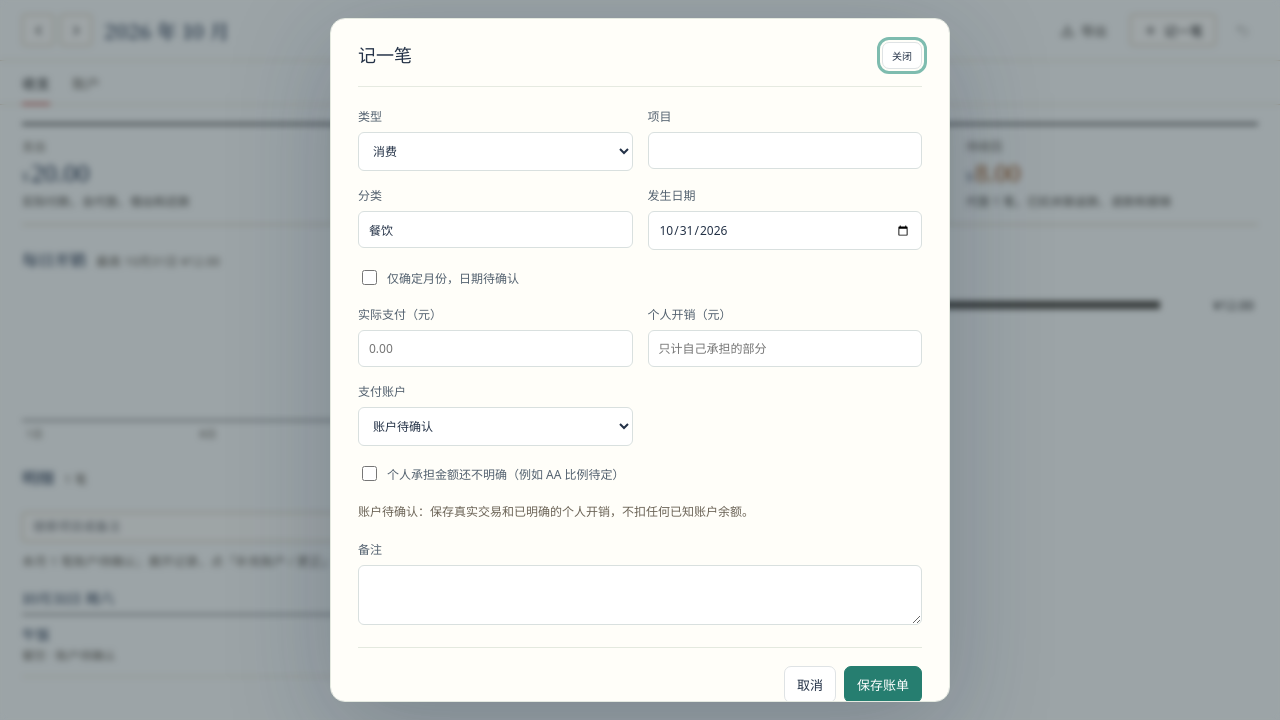
it: local ledger UI › records a real expense with an unknown account without guessing a balance account
Expected: the tab "收支" is shown, [22, 61, 50, 105]
Type "晚饭" into the field labelled "项目". click: (785, 150)
box: [648, 132, 922, 169]
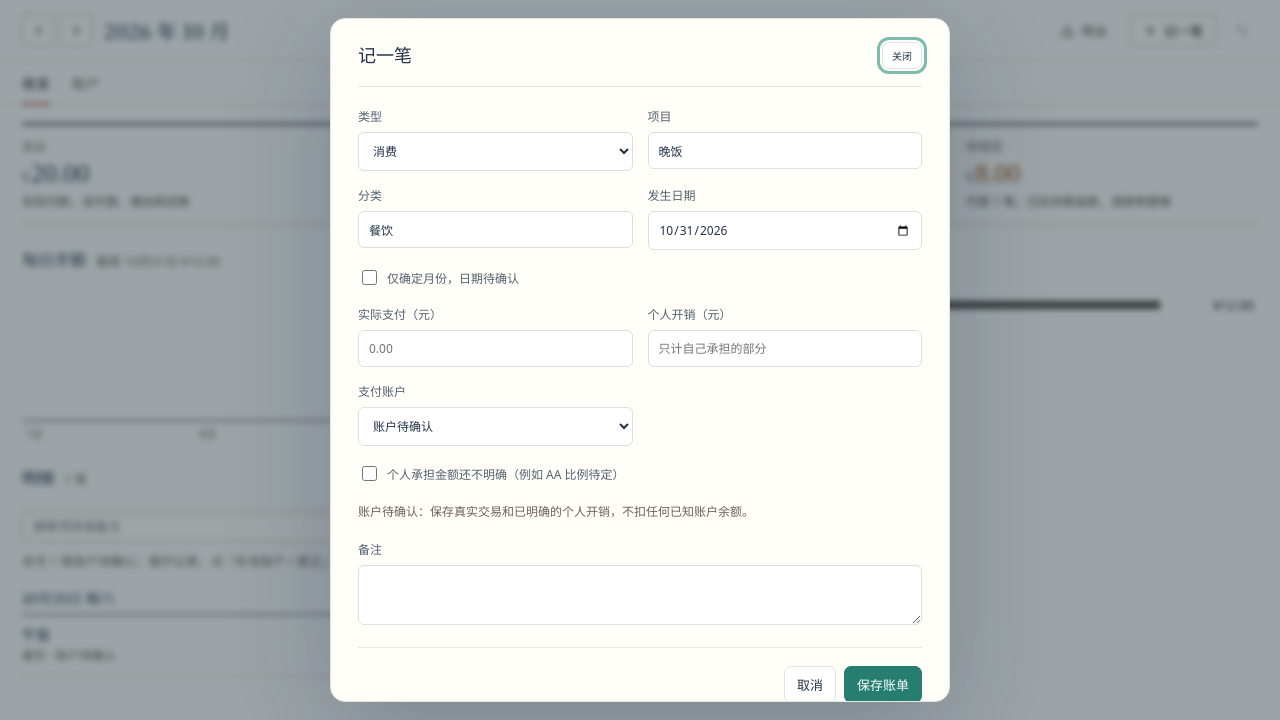
Type "18.50" into the field labelled "实际支付（元）". click: (495, 348)
box: [358, 330, 632, 367]
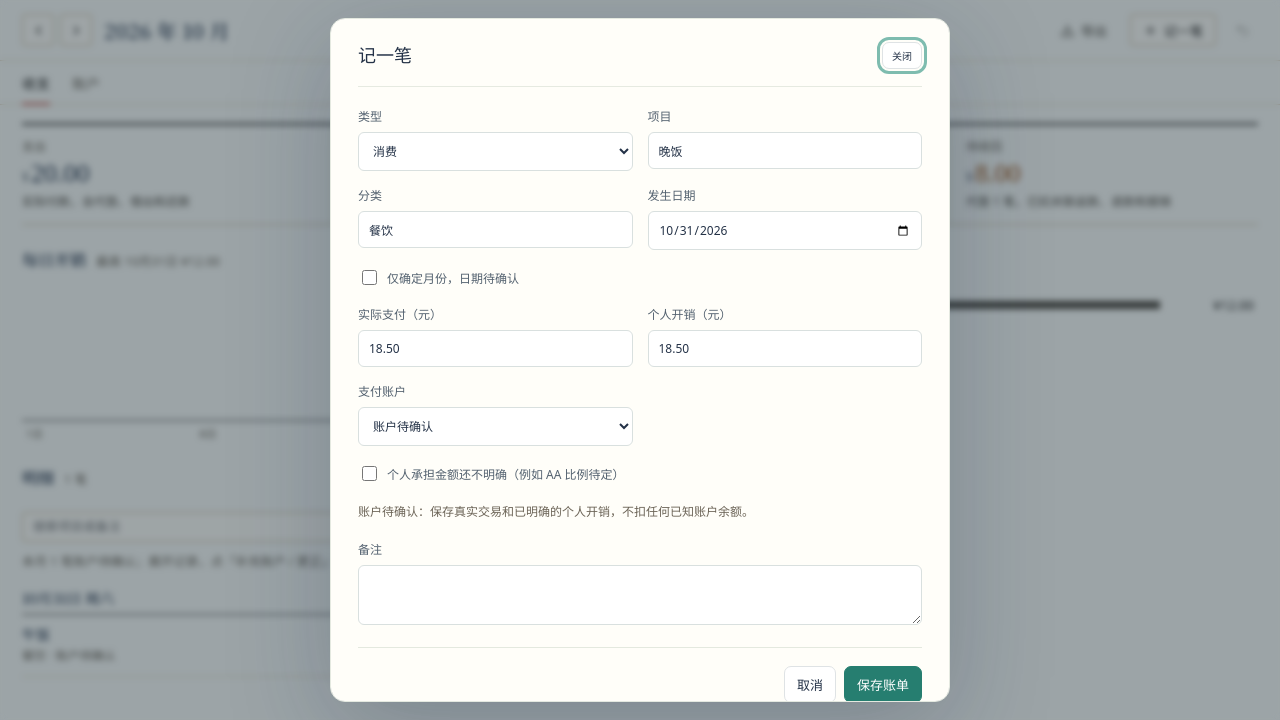
Click the button "保存账单". click: (883, 685)
box: [844, 666, 922, 703]
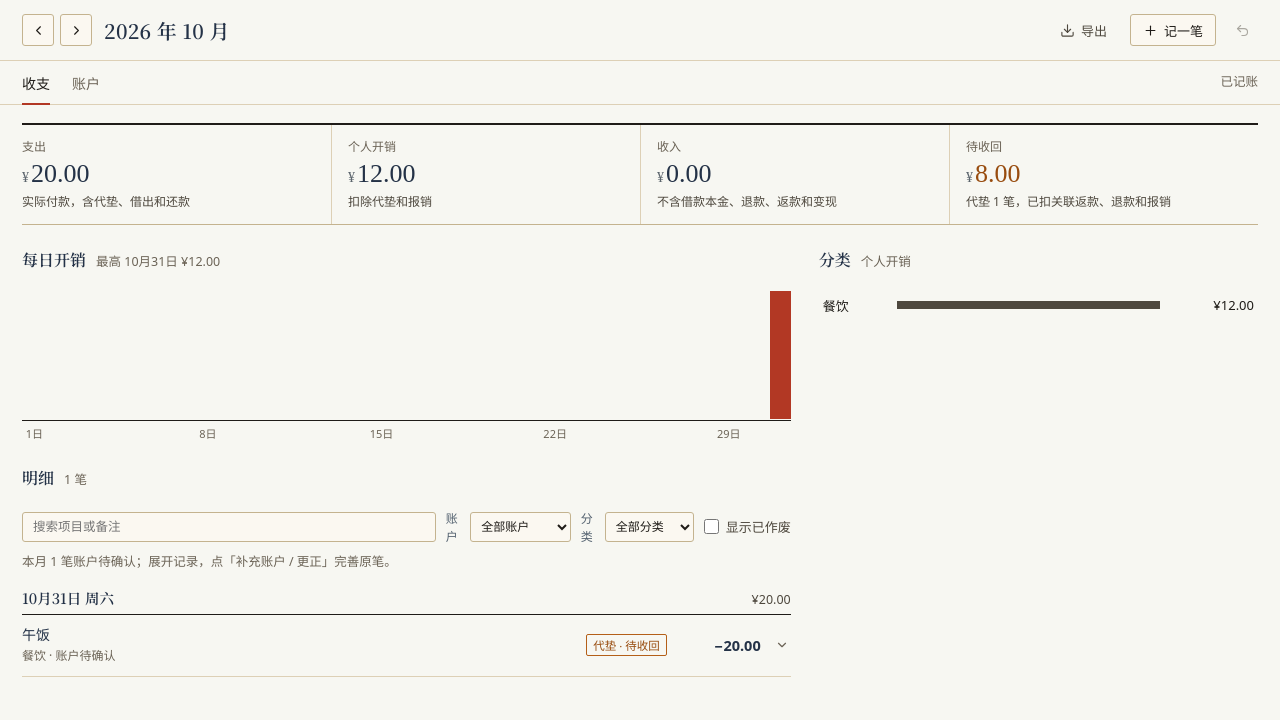
Now the message reads "已记账", box [1220, 73, 1258, 90]
